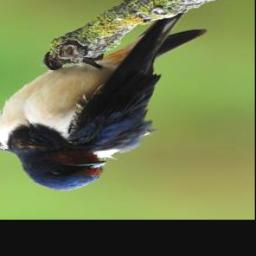Swallow: (0, 10, 210, 192)
